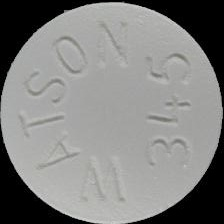68788-6392: (0, 0, 224, 224)
